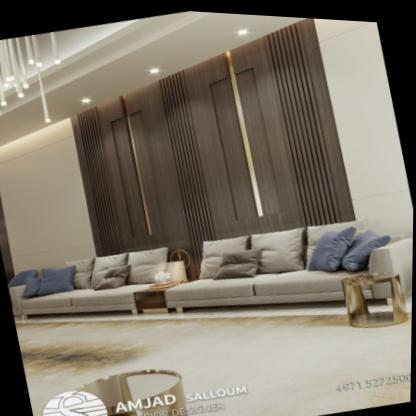Sofa: (167, 208, 414, 312)
Wall Panel: (65, 14, 360, 256)
